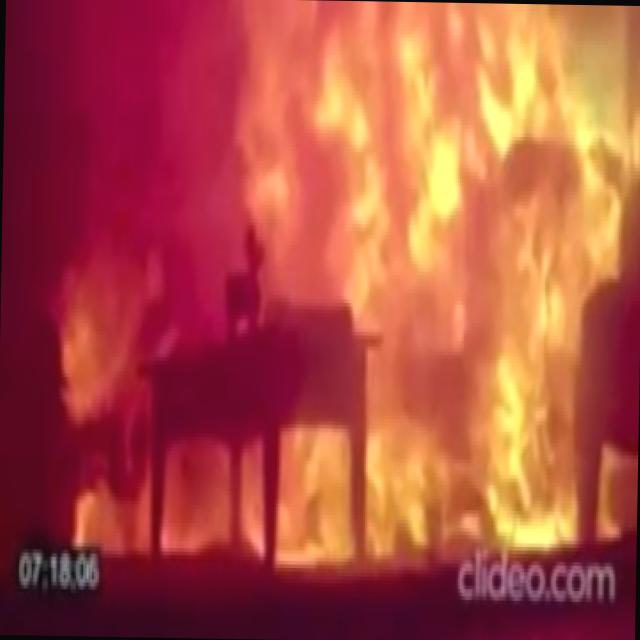fire: (49, 0, 640, 526)
